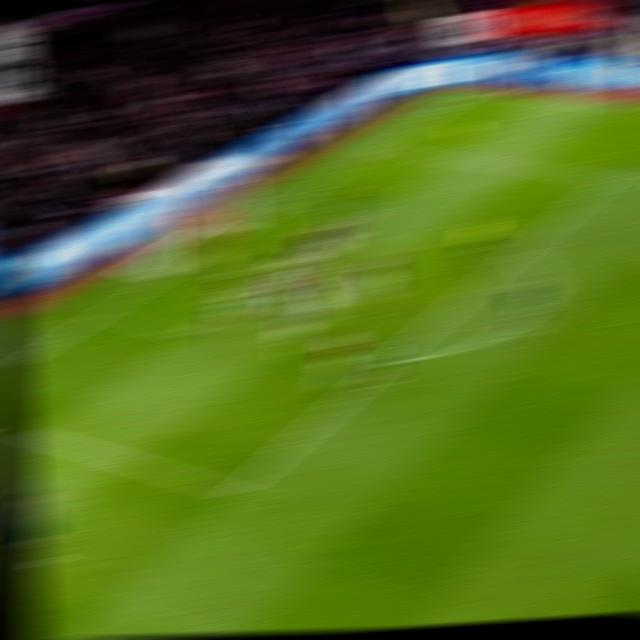bigarea_bottom_inner: (214, 473, 258, 508)
bigarea_top_inner: (593, 166, 629, 187)
bigarea_top_outter: (362, 139, 397, 155)
bottom_arc_area_intersection: (372, 351, 407, 370)
corner: (454, 84, 491, 98)
smallarea_bottom_inner: (164, 317, 204, 347)
smallarea_bottom_outter: (83, 302, 121, 324)
smallarea_top_inner: (347, 205, 382, 223)
smallarea_top_outter: (276, 191, 311, 208)
top_arc_area_intersection: (503, 240, 539, 260)
